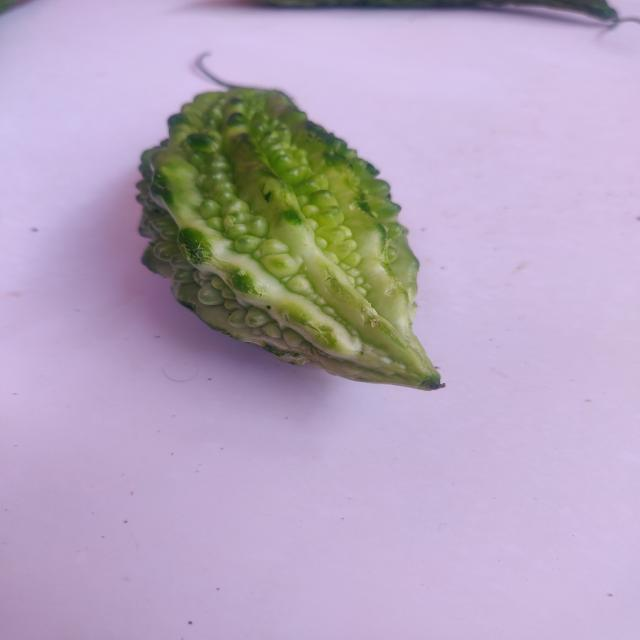Bitter Gourd: (126, 64, 472, 409)
